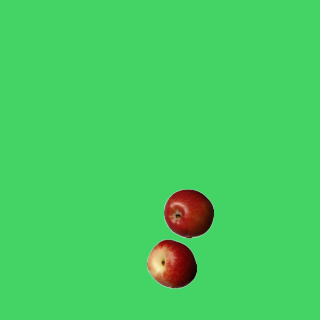Apple Braeburn: (163, 188, 213, 238)
Nectarine: (146, 238, 196, 288)
